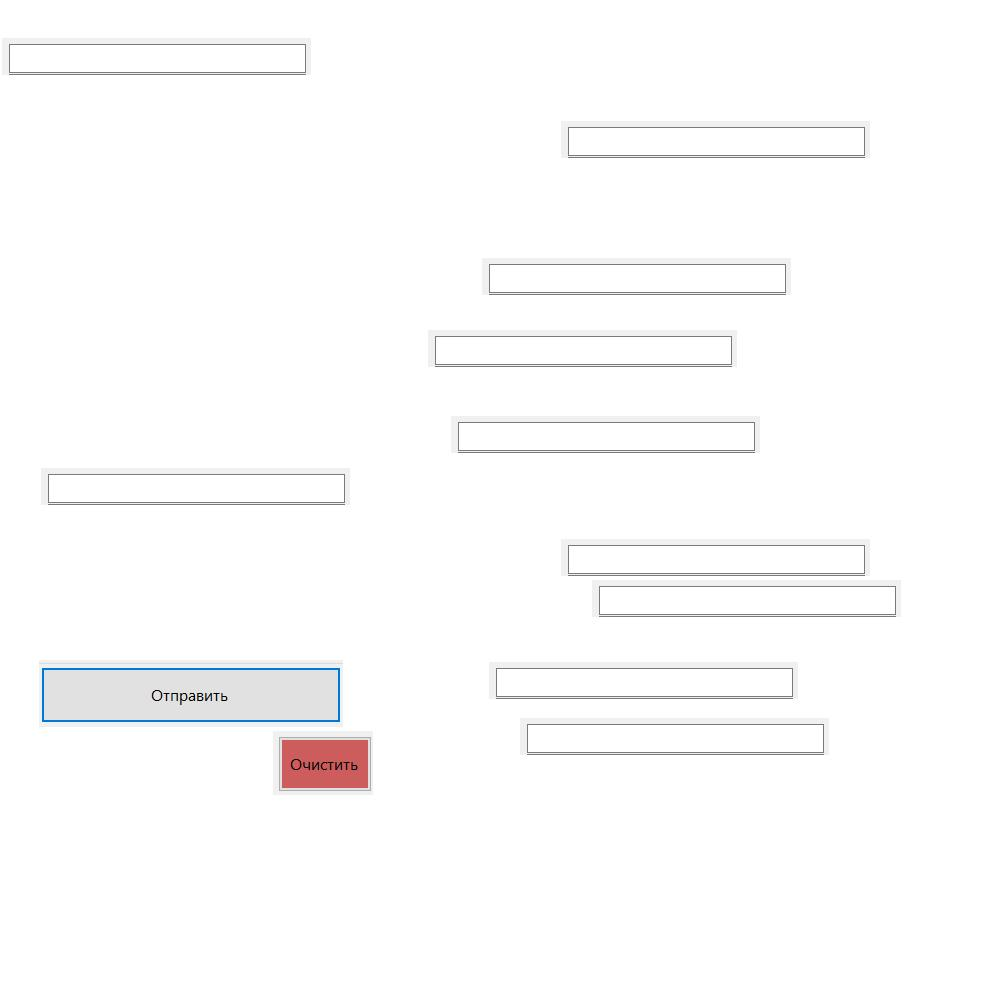Button: (39, 660, 343, 727), (273, 731, 373, 795)
EditText-: (41, 468, 350, 505), (451, 416, 760, 453), (489, 662, 798, 699), (2, 38, 311, 75), (592, 580, 901, 617), (561, 539, 870, 576), (520, 718, 829, 755), (428, 330, 737, 367), (561, 121, 870, 158), (482, 258, 791, 295)
